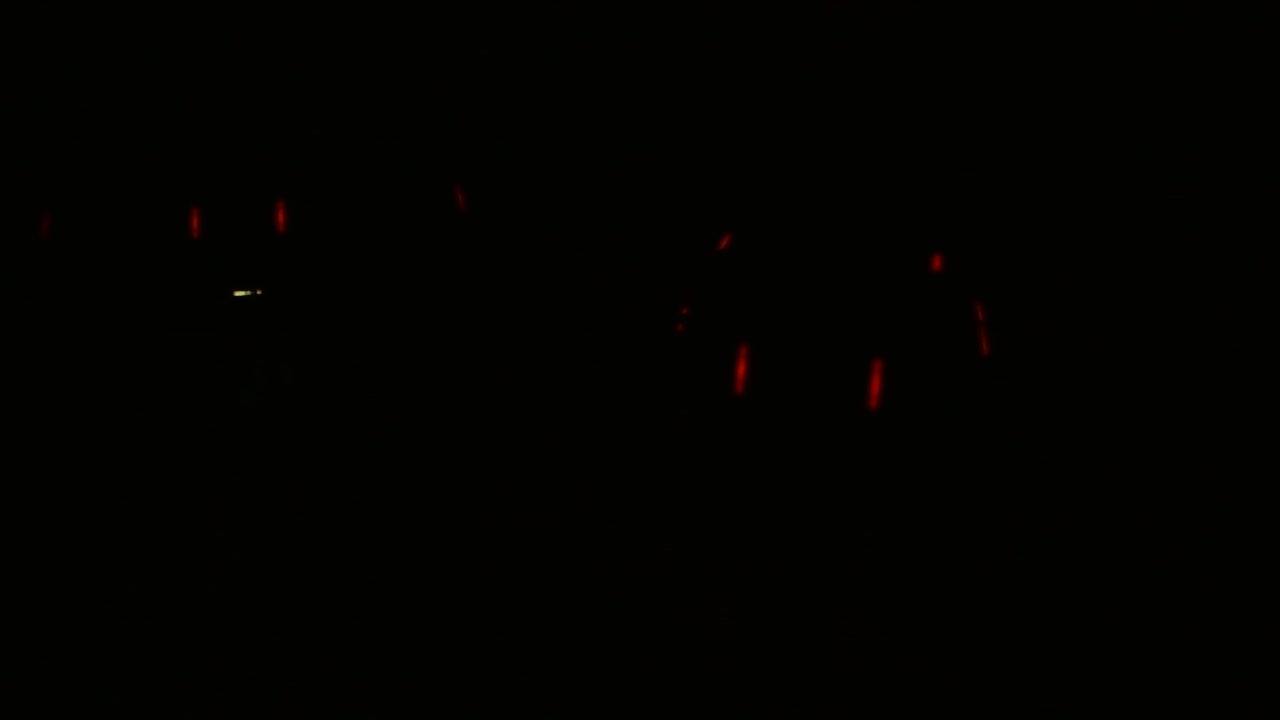pair1: (179, 188, 302, 252)
pair2: (717, 341, 898, 420)
